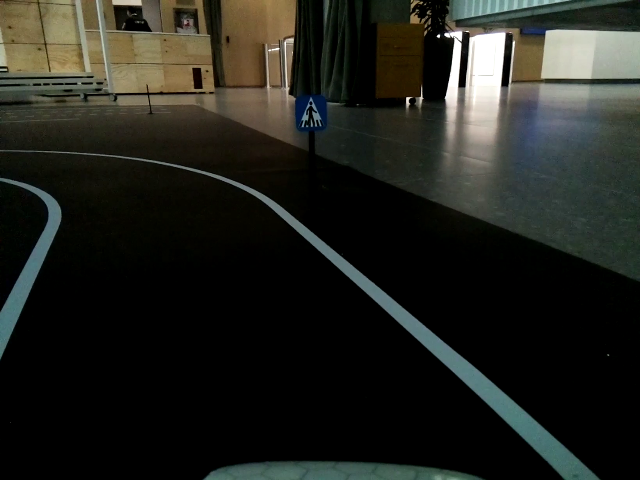pedestrians: (297, 97, 326, 129)
